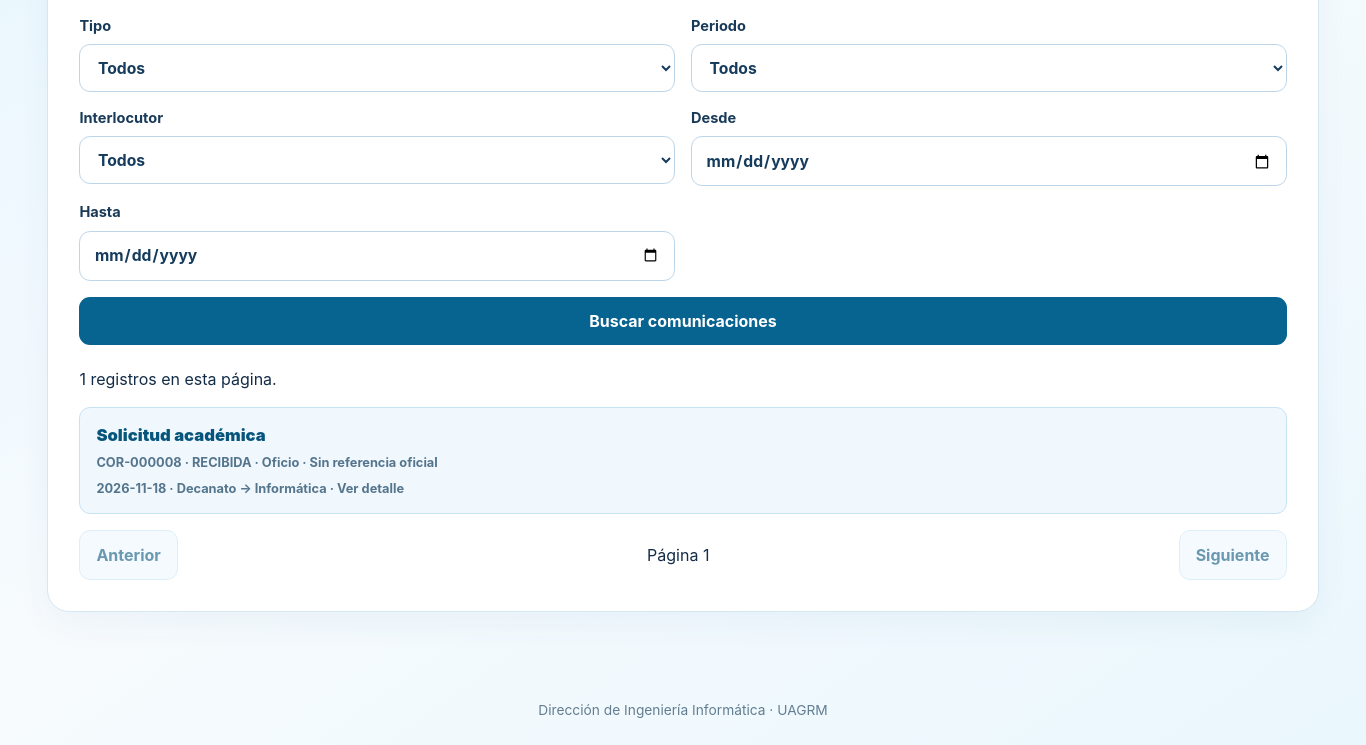
CU-05 interfaz de correspondencia › permite consultar sin ofrecer gestión ni revelar antecedentes no autorizados
(page scrolled)
What coordinates should you click on to do the following:
click the button "Solicitud académica"
I would click on:
 (181, 435)
Its box is left=79, top=407, right=1287, bottom=514.
(page scrolled)
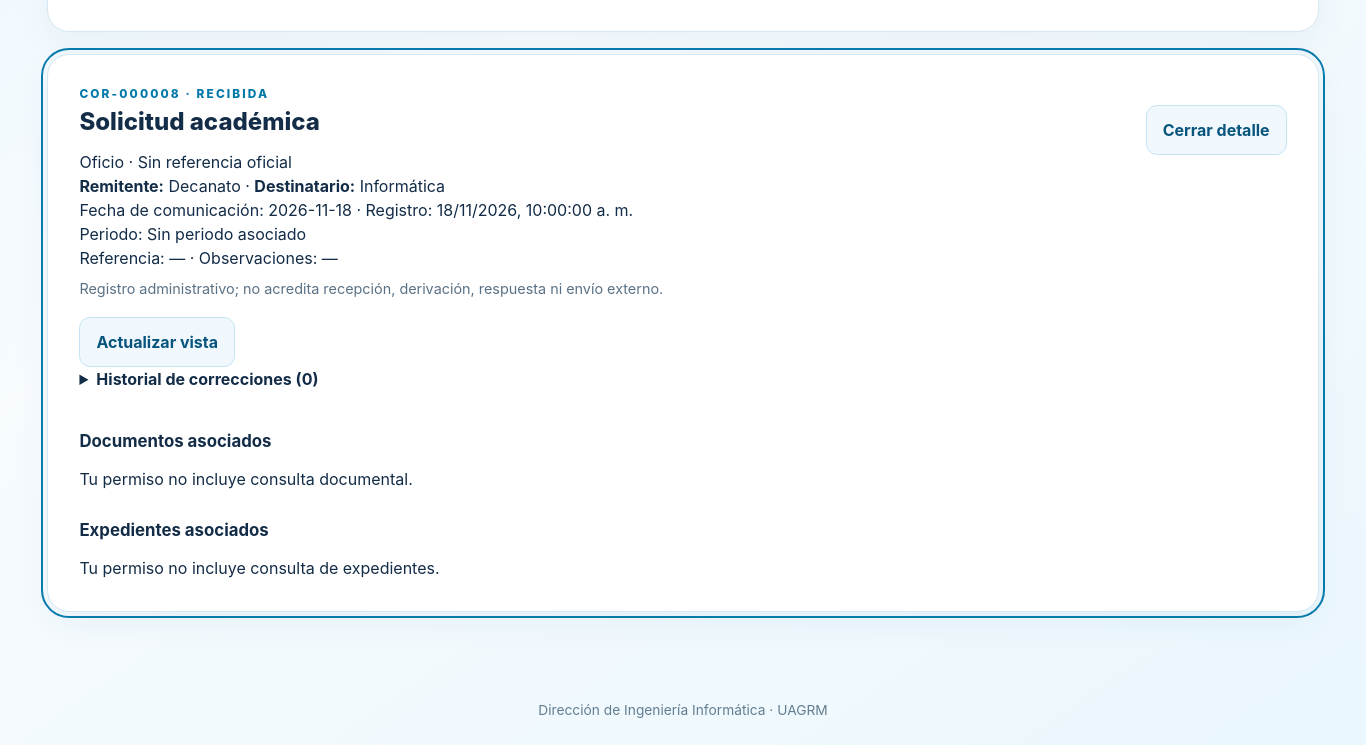
Expected: the text "Tu permiso no incluye consulta documental." is shown, left=79, top=469, right=413, bottom=489
Expected: the text "Tu permiso no incluye consulta de expedientes." is shown, left=79, top=558, right=440, bottom=578
